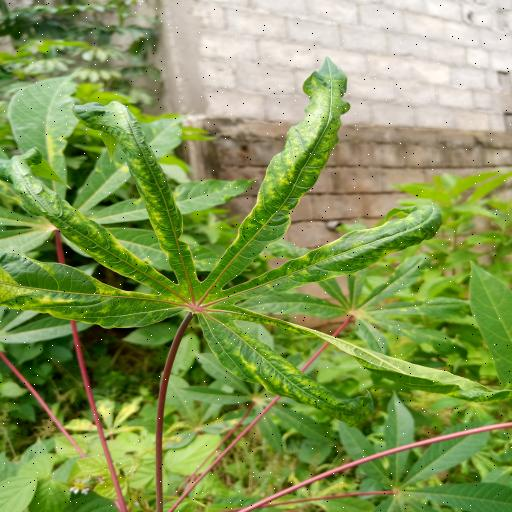Cassava_Mosaic: (0, 57, 512, 424)
